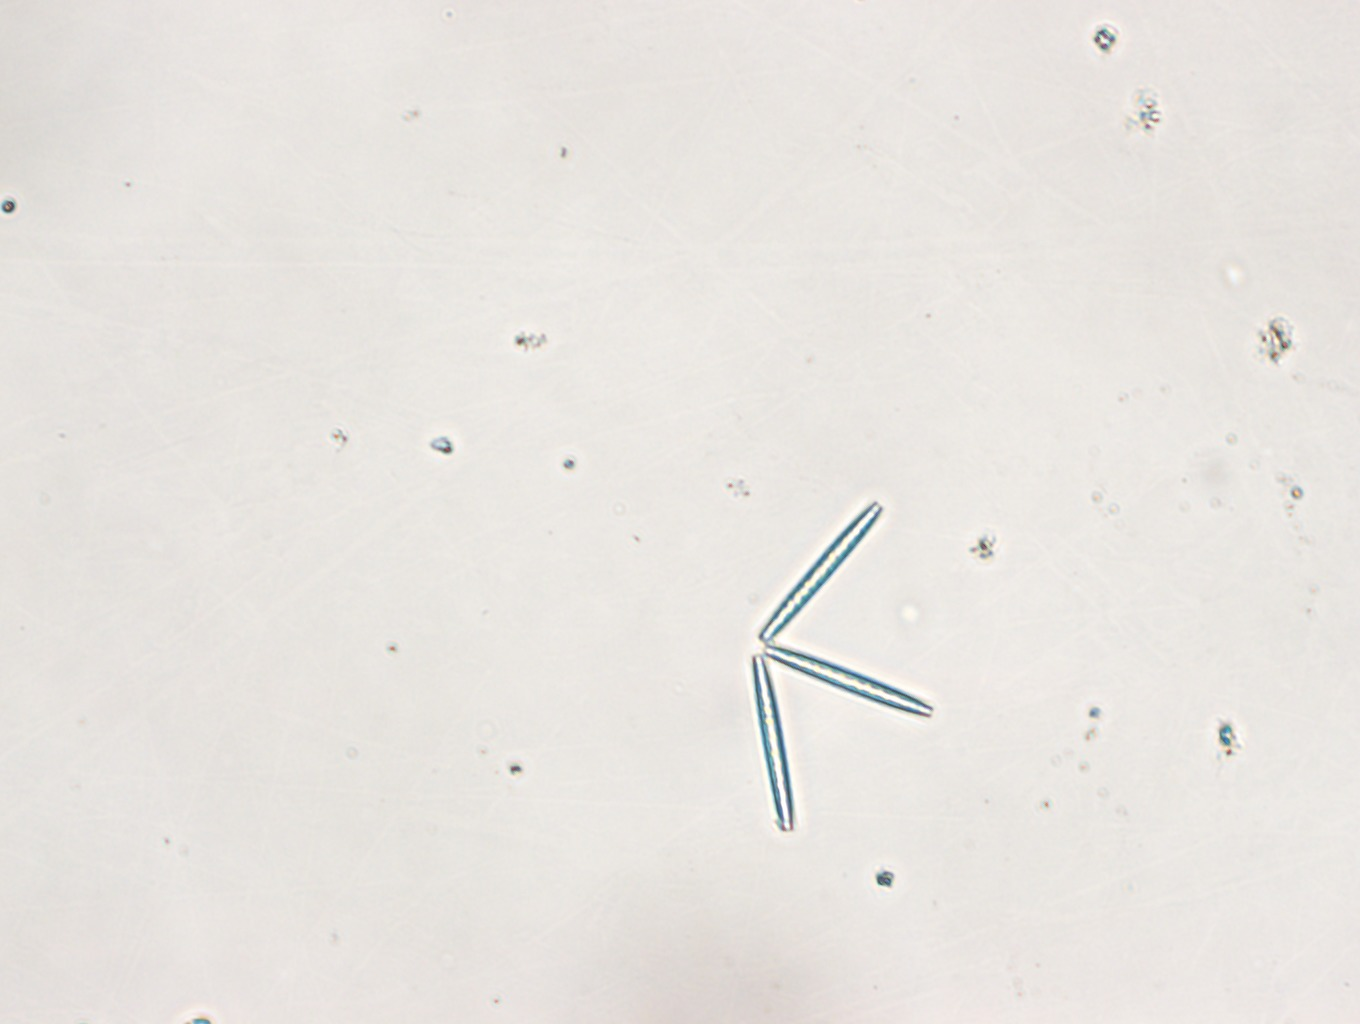thalassionema nitzschioides: (747, 494, 942, 840)
